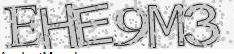3: (184, 3, 223, 48)
9: (113, 6, 150, 50)
E: (74, 2, 113, 51), (2, 4, 38, 48)
H: (39, 3, 78, 50)
M: (147, 4, 185, 48)
